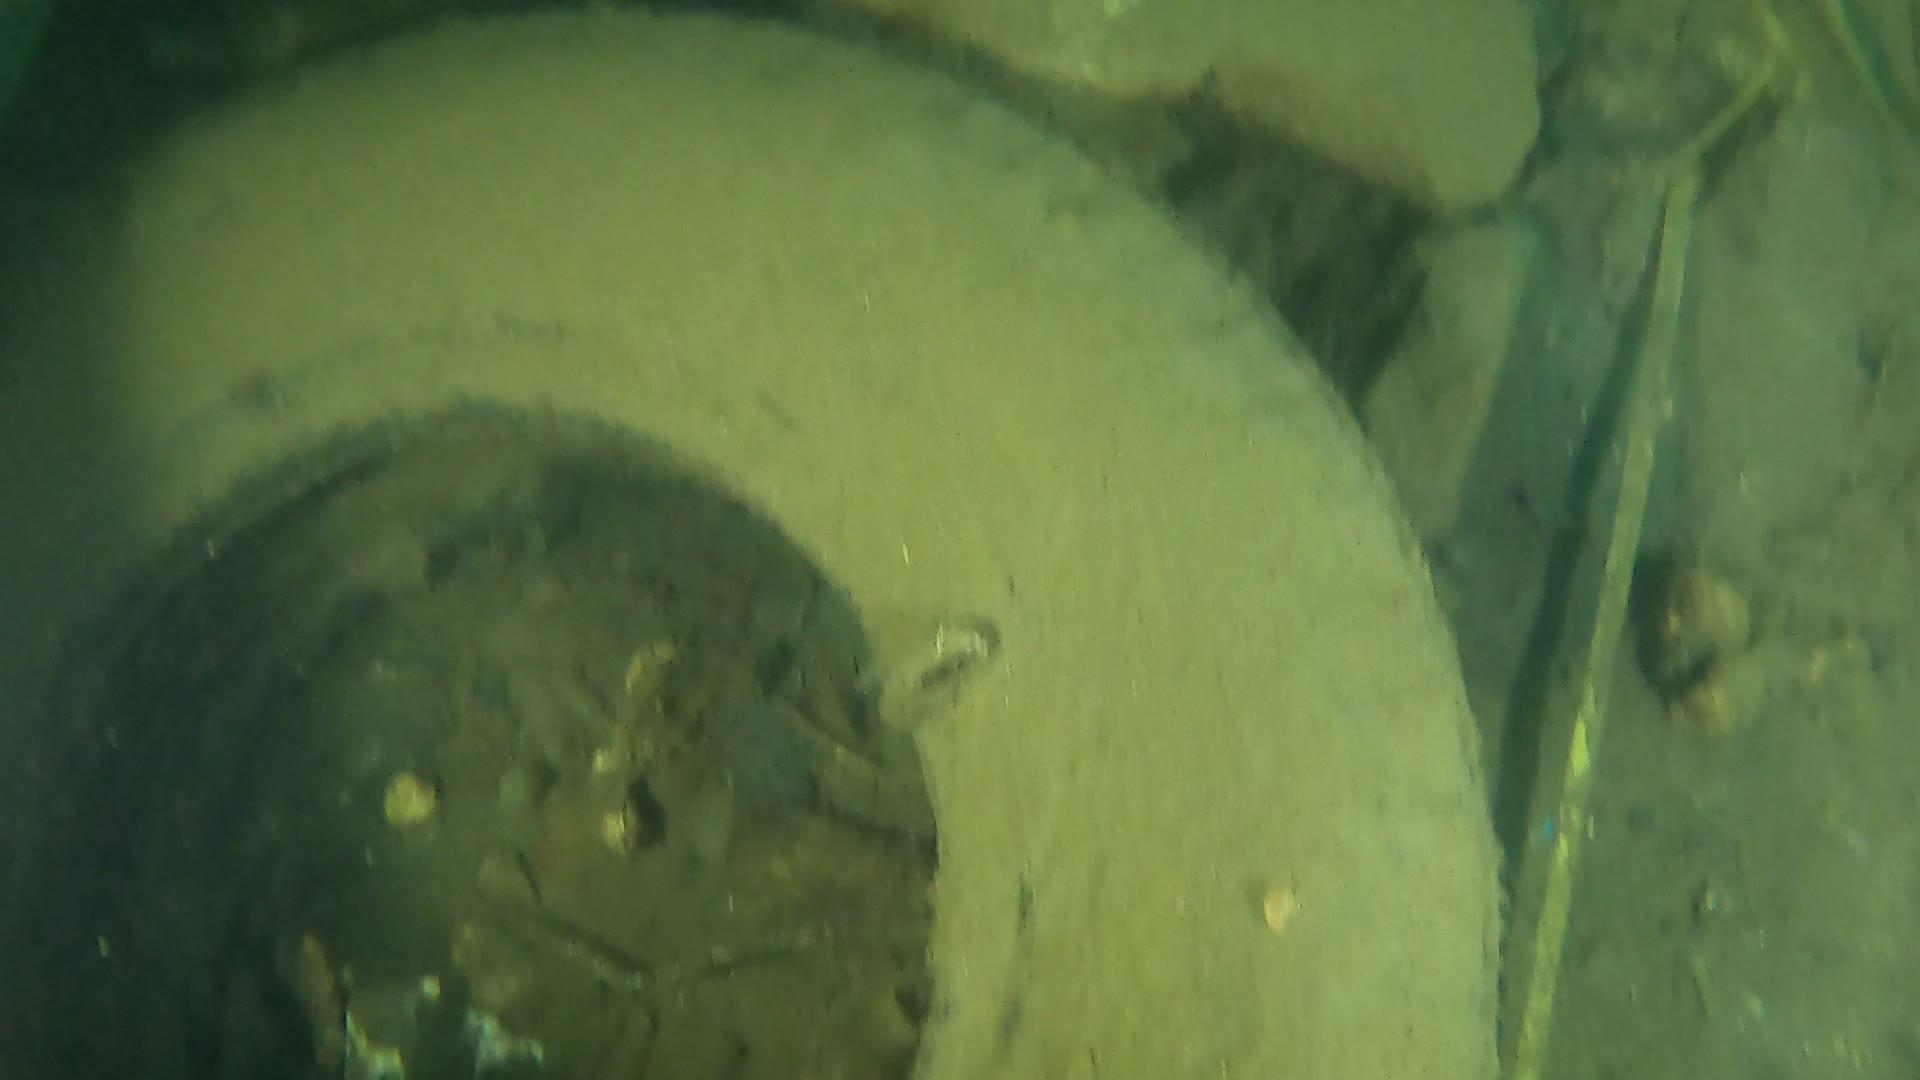tire: (0, 0, 1505, 1080)
